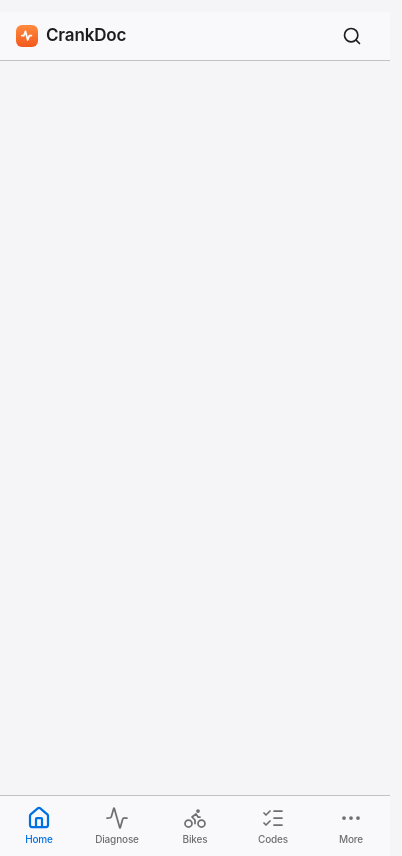
Test case: Navigation › clicking a link in the More menu closes it
This screenshot has width=402, height=856.
Click the button with aria-label "More navigation" at (351, 826), box [312,796,390,855]
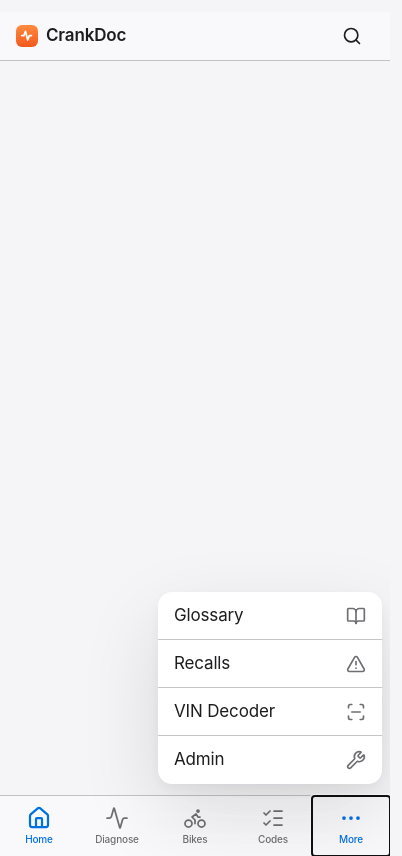
Click the link "Admin" at (199, 759), box [174,749,366,770]
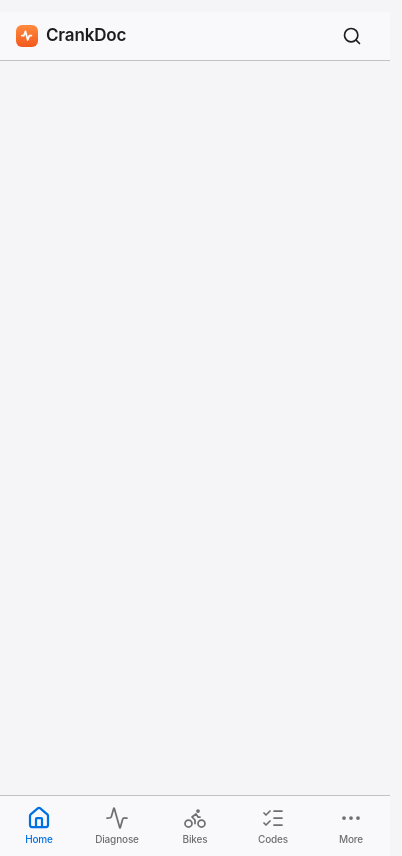
expect the button with aria-label "More navigation" is collapsed: met, box [312,796,390,855]
